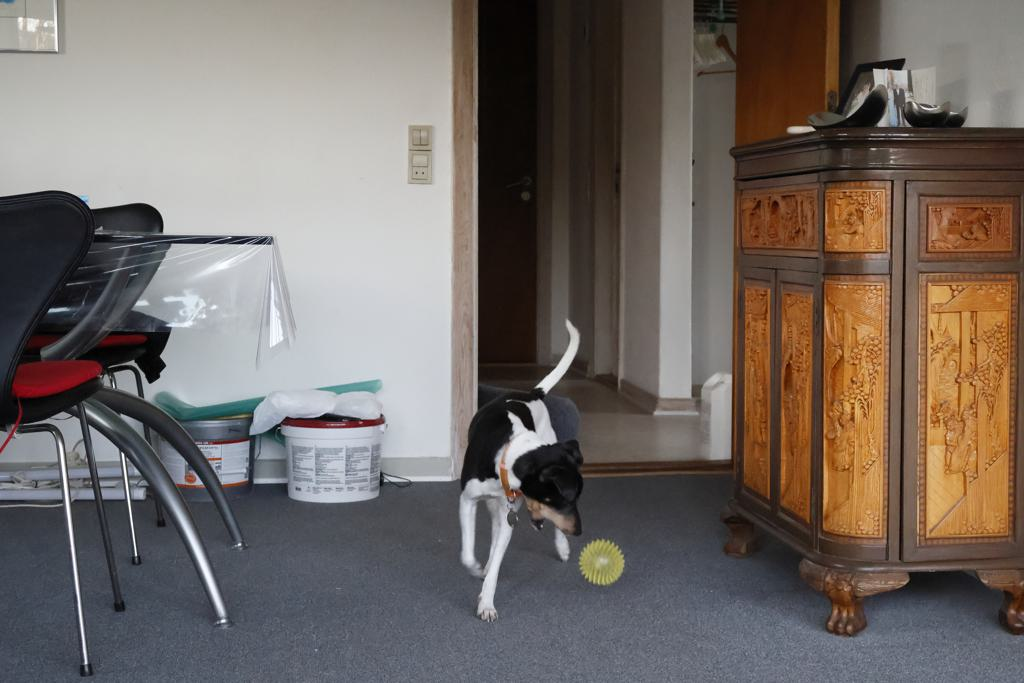Dog: (439, 313, 592, 626)
